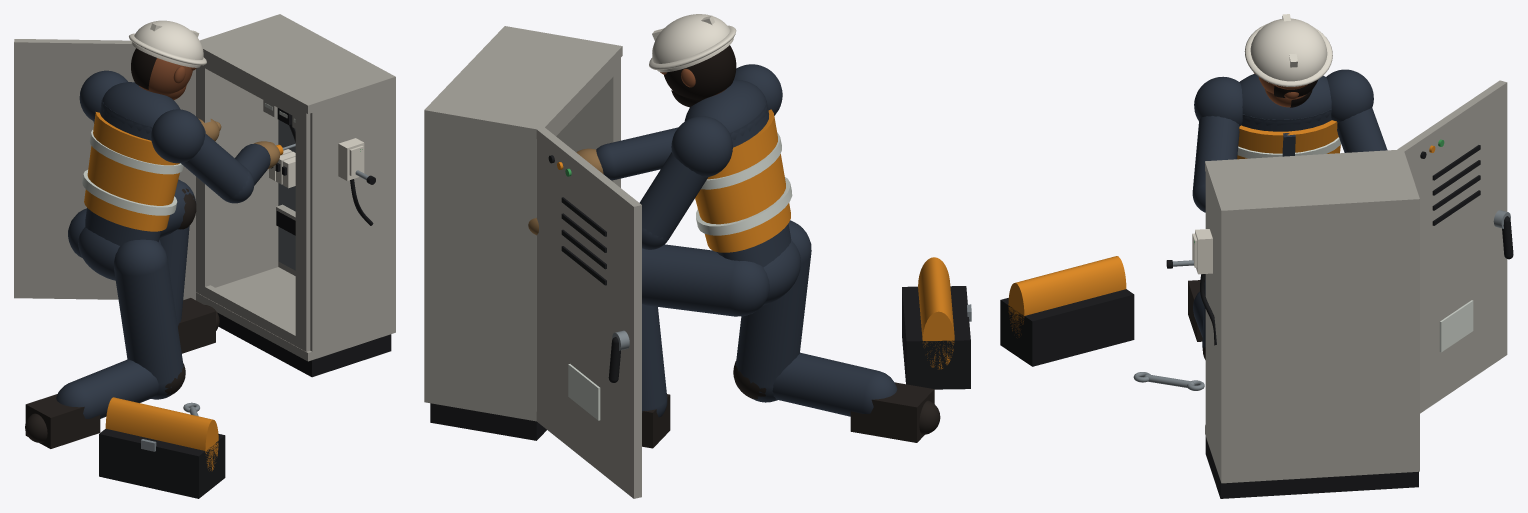
File: technician.glb
3 renders of one model, left to right at view 1: azimuth 30°, elevation 25°; view 2: azimuth 150°, elevation 25°; view 3: azimuth 270°, elevation 25°, orthographic. The views are drawn at different scales.
Visible parts, largest first — view 1: door_panel, shell_side_left, shell_side_right, shell_top, thigh_right, hivis_vest, toolbox_body, toolbox_lid, shell_bottom, frame_stile_left, shin_right, shell_back (+25 smaller); view 2: shell_side_right, door_panel, shell_top, thigh_left, hivis_vest, thigh_right, shin_right, toolbox_body, shell_back, upper_arm_left, boot_right, shoulder_left (+20 smaller); view 3: shell_back, door_panel, shell_top, toolbox_body, toolbox_lid, shell_side_left, hat_dome, plinth, chest_top, upper_arm_right, hivis_vest, shoulder_left (+8 smaller).
Boxes of the visible parts, x1,y1,x2,y2 form: door_panel: (14, 39, 195, 300); shell_side_left: (310, 76, 391, 359); shell_side_right: (201, 16, 278, 287); shell_top: (200, 14, 392, 113); thigh_right: (114, 239, 183, 399); hivis_vest: (84, 112, 179, 231); toolbox_body: (99, 429, 225, 498); toolbox_lid: (105, 397, 218, 470); shell_bottom: (196, 267, 394, 361); frame_stile_left: (295, 108, 310, 351); shin_right: (56, 359, 158, 418); shell_back: (273, 14, 395, 334); shell_side_right: (430, 107, 539, 411); door_panel: (536, 127, 641, 498); shell_top: (426, 26, 622, 138); thigh_left: (642, 244, 769, 316); hivis_vest: (695, 109, 790, 252); thigh_right: (735, 220, 811, 402); shin_right: (772, 352, 897, 416); toolbox_body: (902, 286, 970, 389); shell_back: (424, 26, 512, 403); upper_arm_left: (639, 152, 707, 248); boot_right: (850, 382, 934, 442); shoulder_left: (671, 116, 732, 177); shell_back: (1220, 195, 1419, 483); door_panel: (1397, 80, 1507, 413); shell_top: (1205, 149, 1417, 216); toolbox_body: (1000, 289, 1134, 366); toolbox_lid: (1008, 256, 1126, 337); shell_side_left: (1205, 164, 1229, 469); hat_dome: (1250, 18, 1327, 86); plinth: (1205, 436, 1418, 498); chest_top: (1239, 73, 1331, 125); upper_arm_right: (1193, 116, 1239, 209); hivis_vest: (1237, 120, 1340, 159); shoulder_left: (1326, 69, 1373, 122).
Size of the model in its own units: 1.38 by 1.25 by 1.53.
